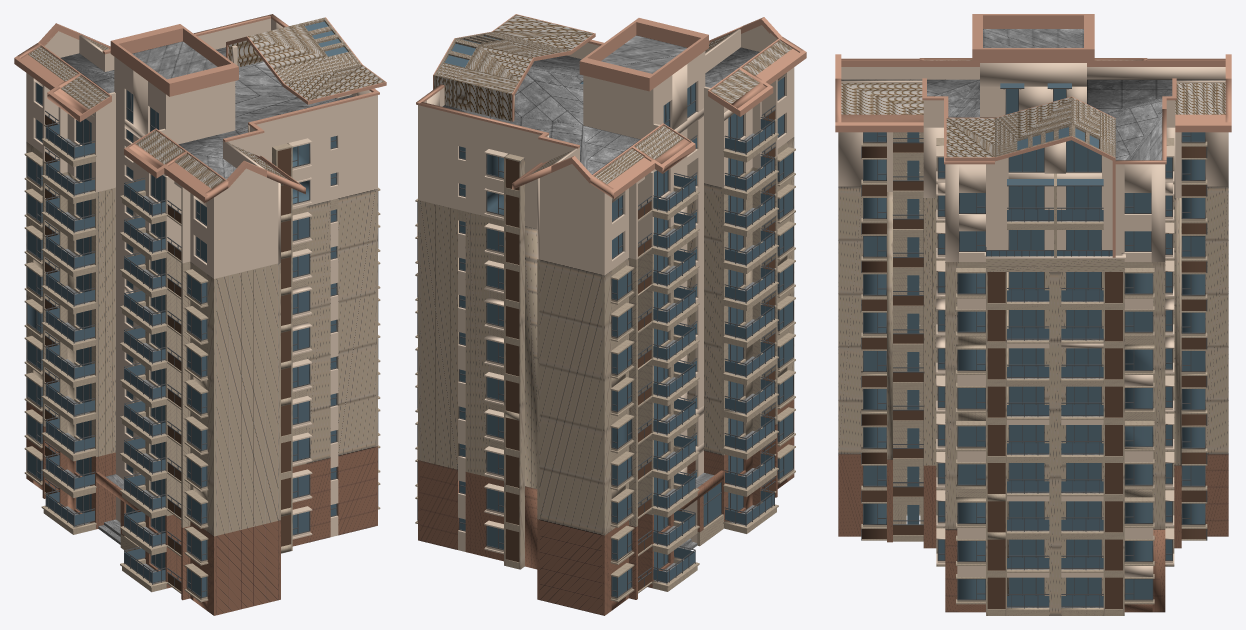
Rendered from lou.glb.
The picture shows the model from 3 angles, left to right: view 1: azimuth 30°, elevation 25°; view 2: azimuth 150°, elevation 25°; view 3: azimuth 270°, elevation 25°; orthographic projection. The views are drawn at different scales.
Parts seen in each view (by area): view 1: Obj3d66-555102-27-912 (C-Component27#1); view 2: Obj3d66-555102-27-912 (C-Component27#1); view 3: Obj3d66-555102-27-912 (C-Component27#1).
Boxes of the visible parts, <box> form: Obj3d66-555102-27-912 (C-Component27#1): <box>14,14,386,615</box>; Obj3d66-555102-27-912 (C-Component27#1): <box>415,14,806,615</box>; Obj3d66-555102-27-912 (C-Component27#1): <box>835,14,1231,615</box>.
Bounding box in the file's own units: 21.73 × 40.21 × 28.94.
10 materials, 5 textured.
